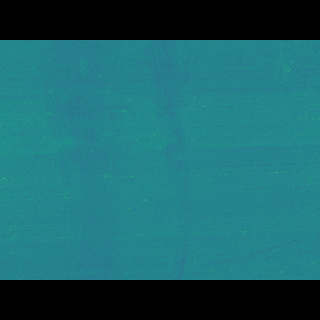Loch: (37, 71, 199, 249)
